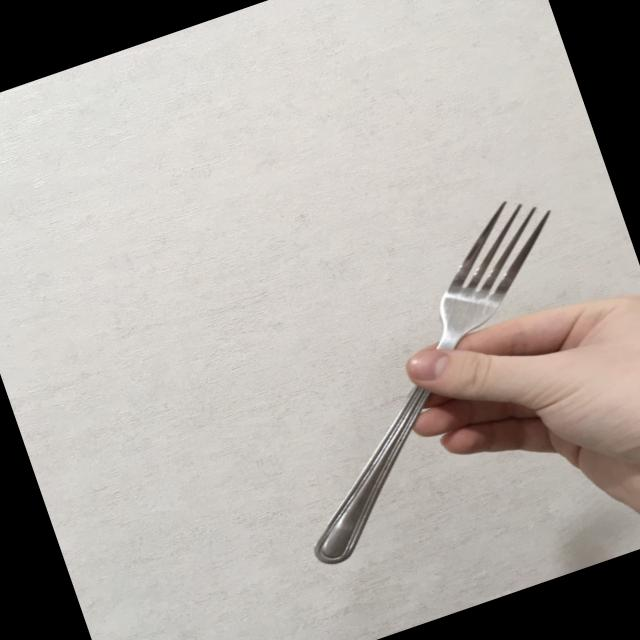fork: (225, 184, 637, 568)
